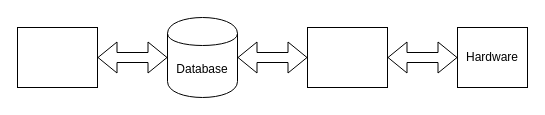
This 545x115 diagram has some shape labels left out. Here are the shapes that lost their labels. From the top down, the box of each, then its label:
(16, 26, 98, 88): Java Application
(306, 26, 388, 88): Webserver
